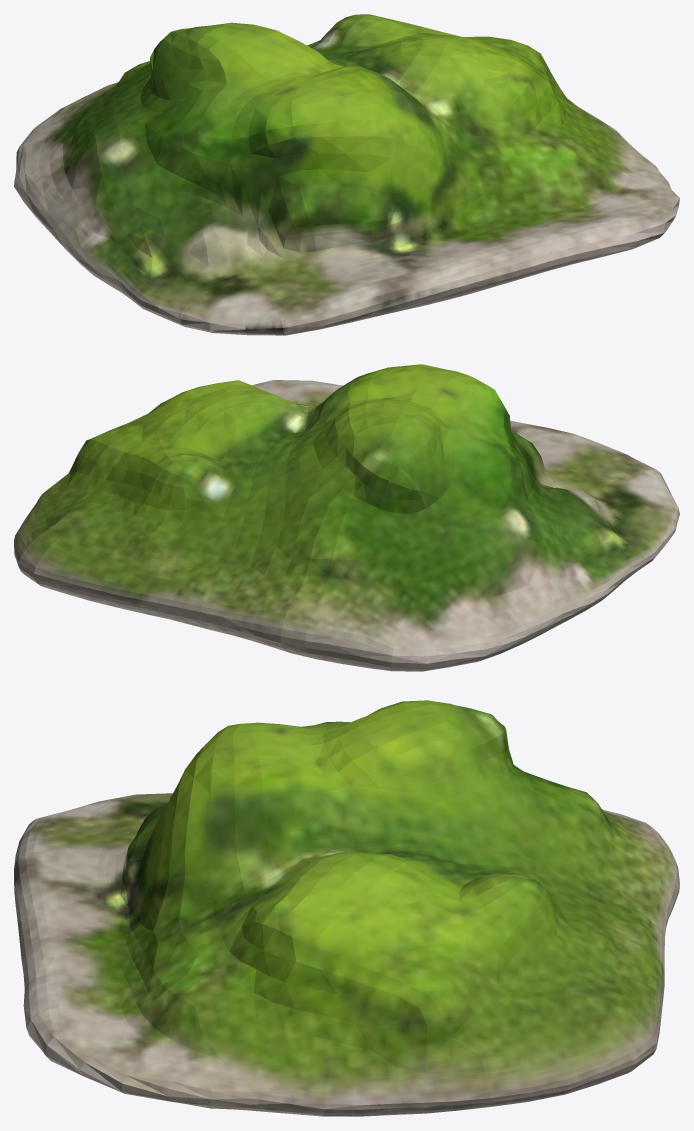
The model's file is tree3.glb.
3 views of the same model, one above another, from view 1: azimuth 30°, elevation 25°; view 2: azimuth 150°, elevation 25°; view 3: azimuth 270°, elevation 25° (orthographic). The views are drawn at different scales.
Visible parts, largest first — view 1: geometry_0; view 2: geometry_0; view 3: geometry_0.
Boxes of the visible parts, x1,y1,x2,y2 form: geometry_0: [14, 14, 679, 335]; geometry_0: [14, 364, 679, 671]; geometry_0: [14, 700, 679, 1116].
Size of the model in its own units: 0.6022 by 0.1986 by 0.549.
1 material, 1 textured.
